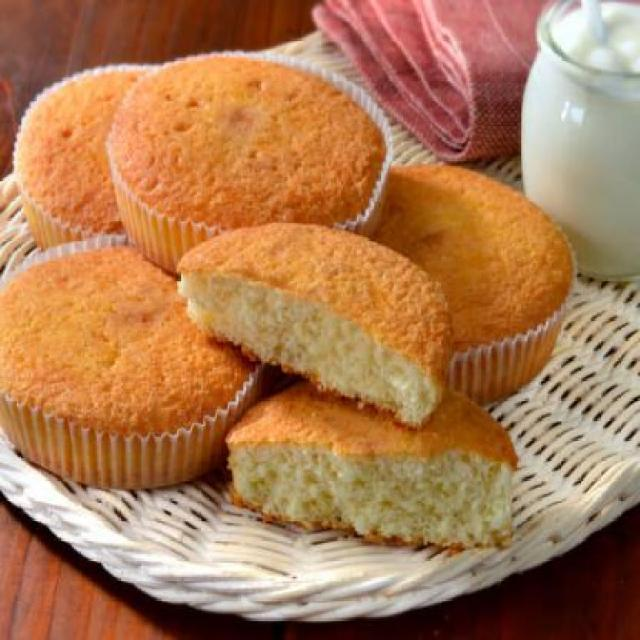Merendine packaged: (8, 51, 578, 567)
